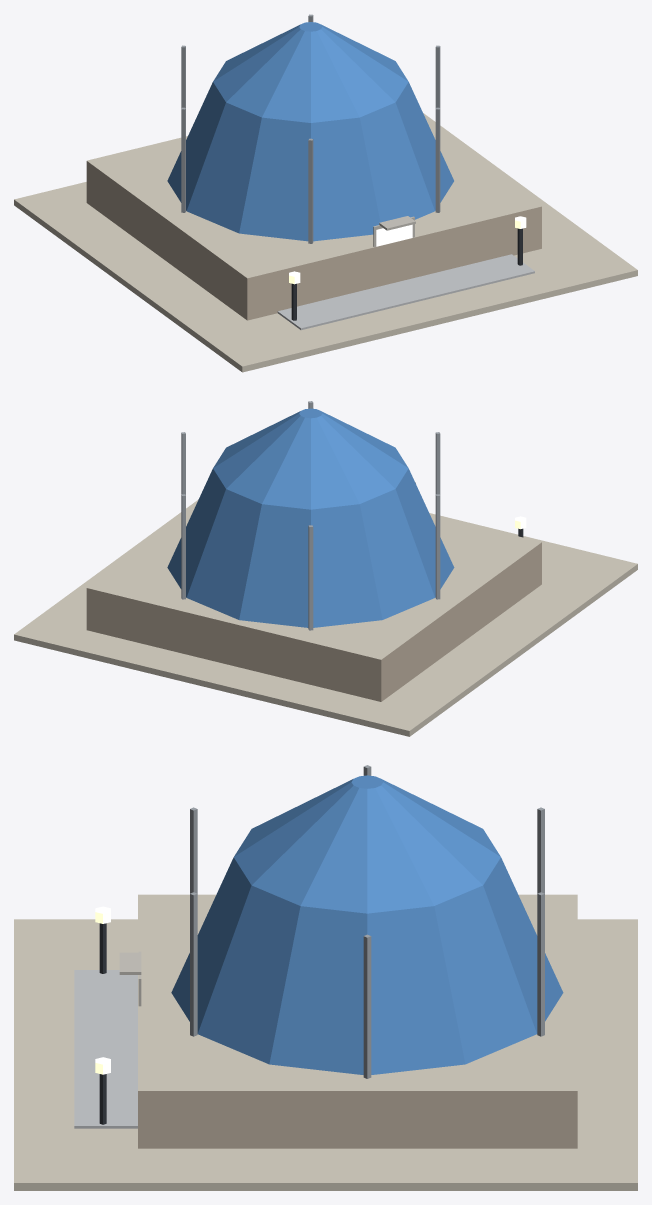
The model's file is landmark_conservatory.glb.
3 views of the same model, one above another, from view 1: azimuth 30°, elevation 25°; view 2: azimuth 150°, elevation 25°; view 3: azimuth 270°, elevation 25° (orthographic). The views are drawn at different scales.
Visible parts, largest first — view 1: landmark_conservatory; view 2: landmark_conservatory; view 3: landmark_conservatory.
Part boxes in pixels (bbox=[...]): landmark_conservatory: bbox=[14, 14, 637, 372]; landmark_conservatory: bbox=[14, 401, 637, 736]; landmark_conservatory: bbox=[14, 765, 637, 1190].
Bounding box in the file's own units: 1.96 × 0.96 × 1.96.
